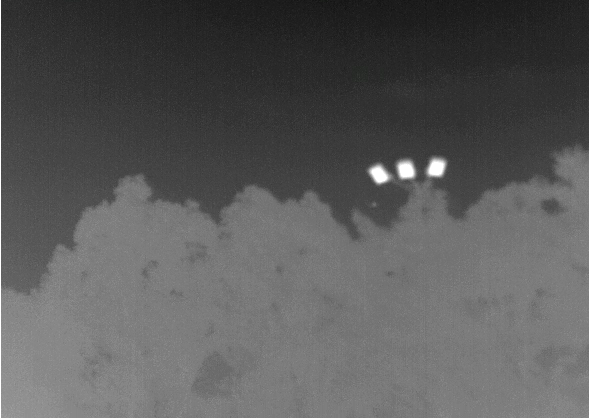dim target: (371, 201, 377, 208)
